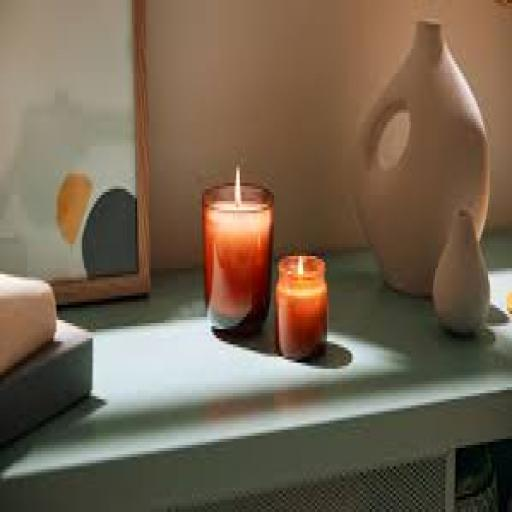fire: (233, 152, 245, 204), (235, 165, 240, 204)
